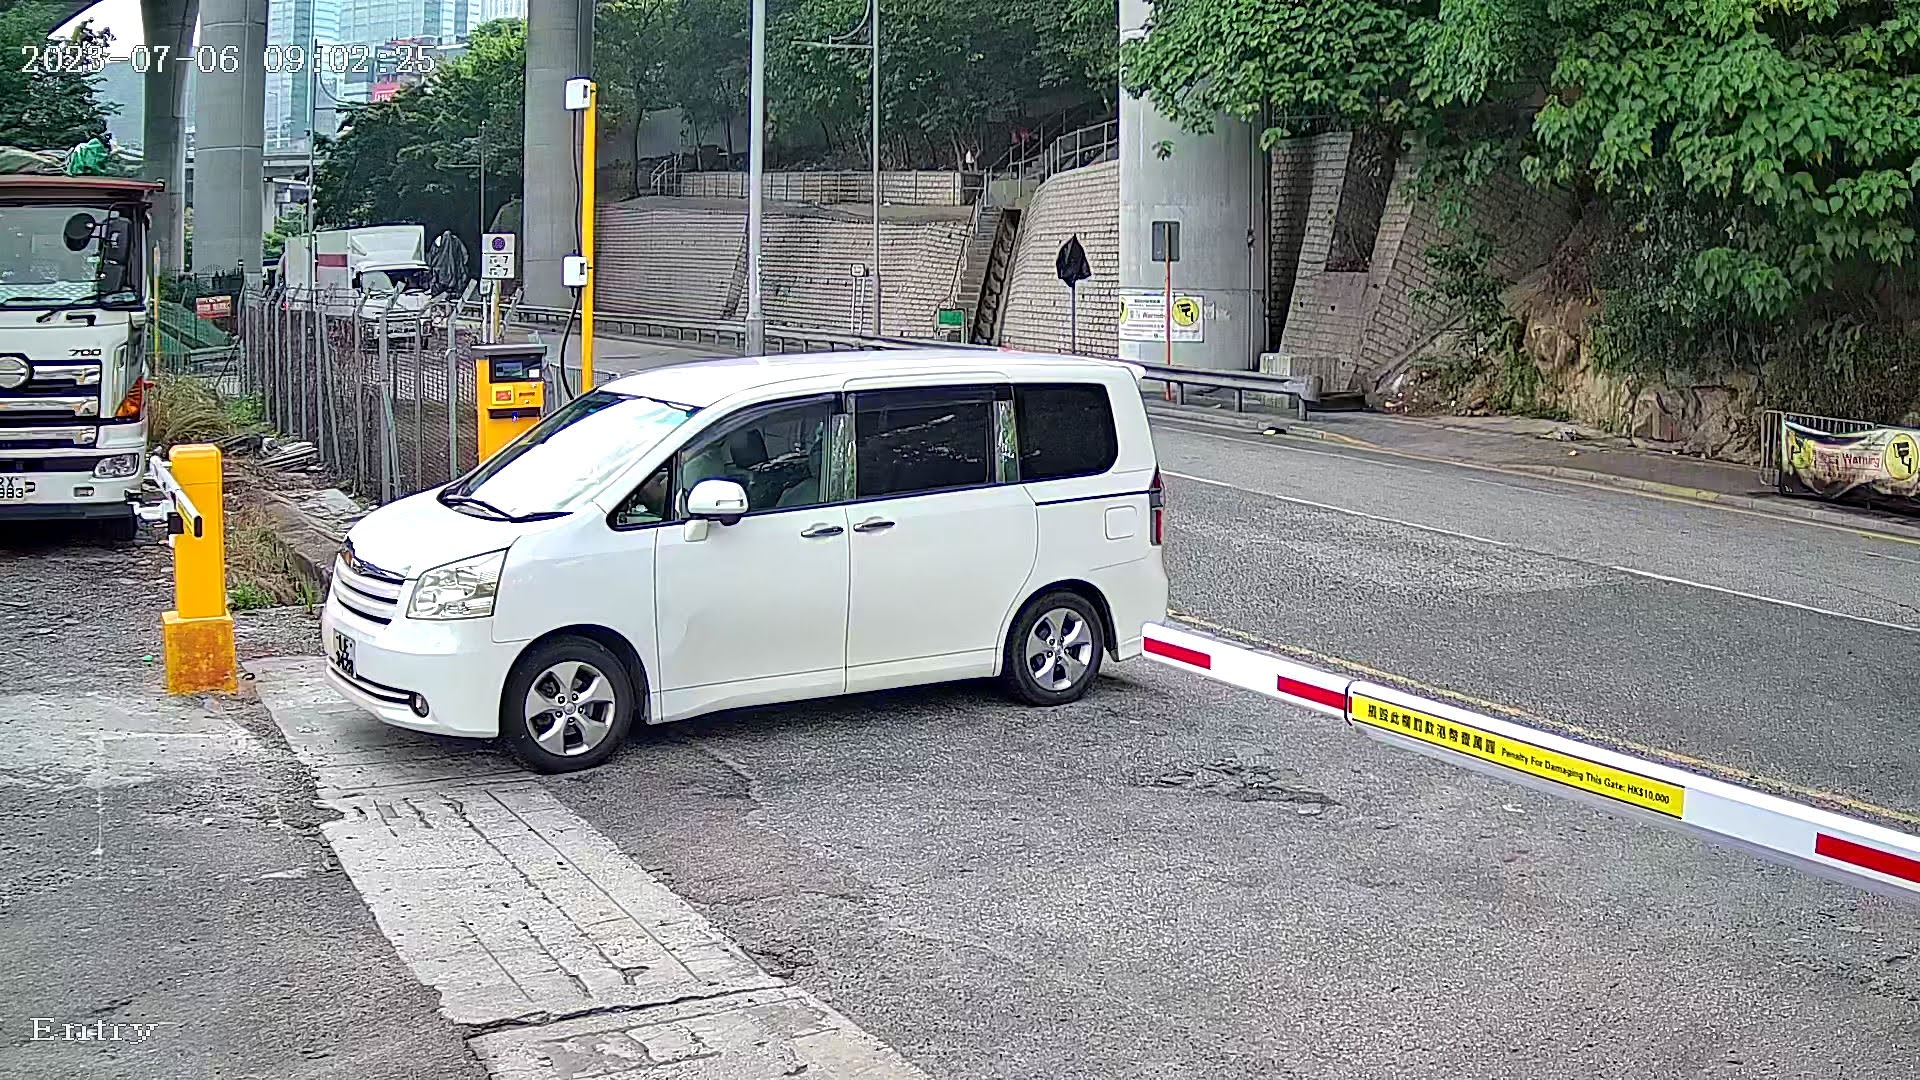privatecar: (301, 266, 1207, 825)
